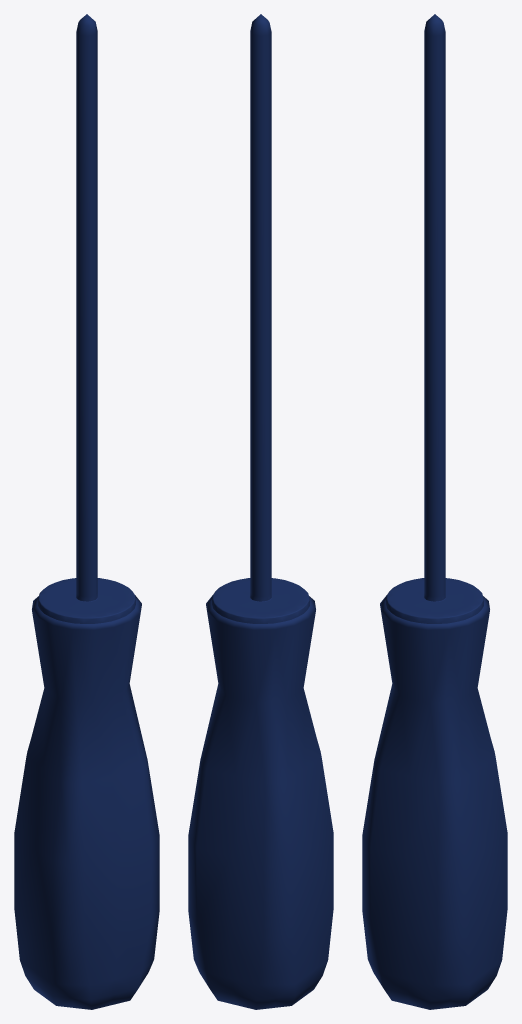
The model's file is screwdriver_low_new_3_tri.fbx.
The picture shows the model from 3 angles, left to right: view 1: azimuth 30°, elevation 25°; view 2: azimuth 150°, elevation 25°; view 3: azimuth 330°, elevation 25°; orthographic projection.
Visible parts, largest first — view 1: screwdriver_low_new_2; view 2: screwdriver_low_new_2; view 3: screwdriver_low_new_2.
Part boxes in pixels (x1,y1,x2,y2): screwdriver_low_new_2: (14,14,159,1009); screwdriver_low_new_2: (188,14,333,1009); screwdriver_low_new_2: (362,14,507,1009).
Bounding box in the file's own units: 288 × 2532 × 288.
